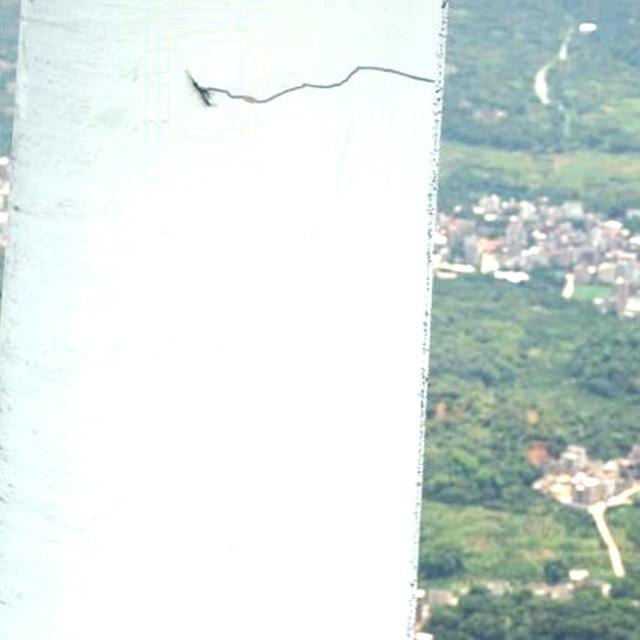crack: (185, 62, 439, 108)
